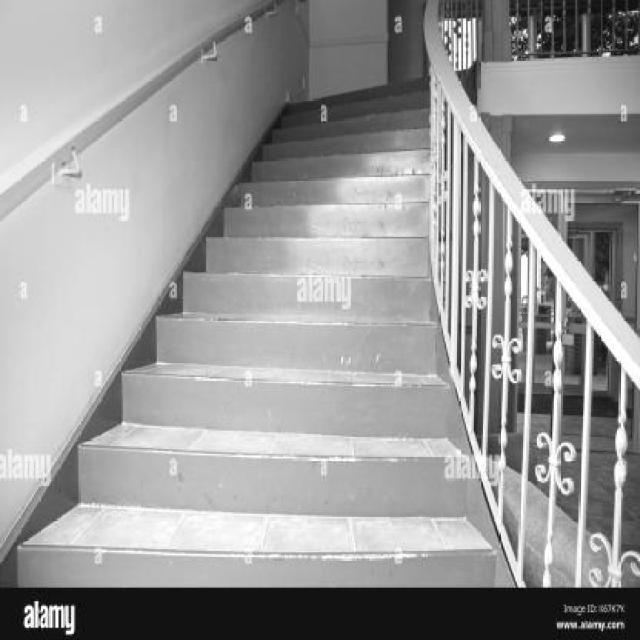stair: (8, 0, 624, 586)
